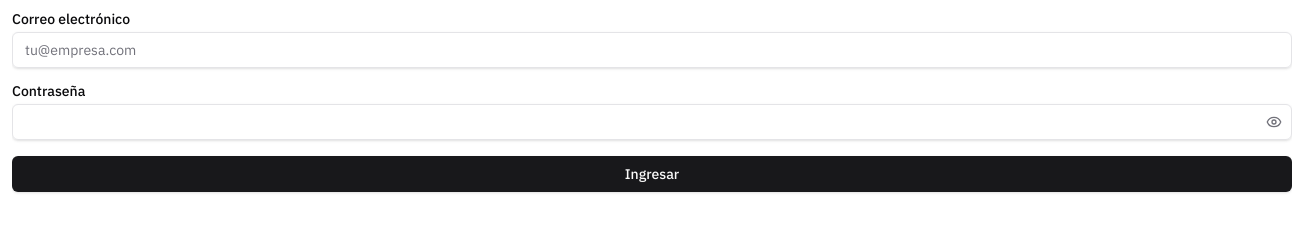
LoginForm — credentials step › shows validation error when password is empty
The width and height of the screenshot is (1304, 232).
Type "test@corehub.com" into the field labelled "Correo electrónico".
click(652, 50); type("test@corehub.com")  # box [12,32,1292,68]
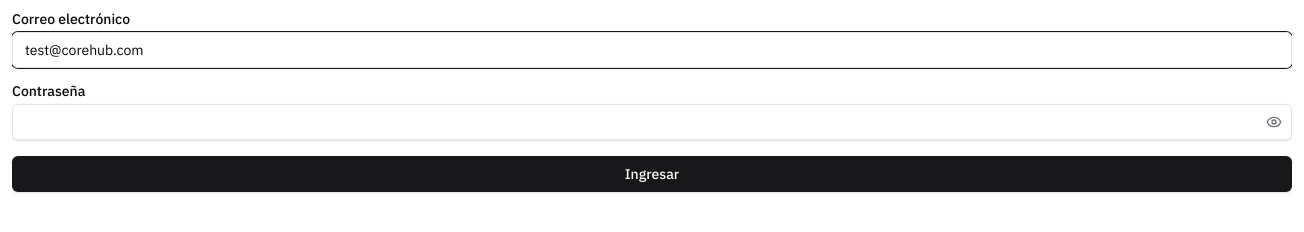
Click the button "Ingresar".
click(652, 174)  # box [12,156,1292,192]
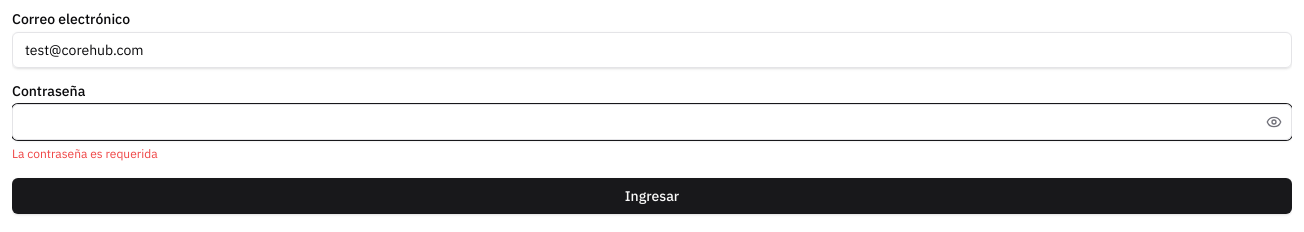
Expected: the text "La contraseña es requerida" is shown, [12,146,158,161]
